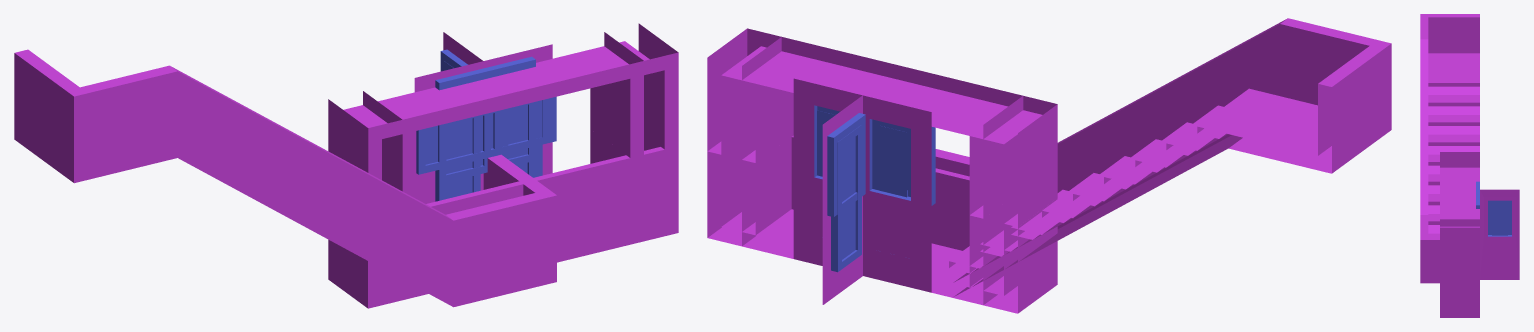
Rendered from Environment_ModularBuildingSet_Master.fbx.
The picture shows the model from 3 angles, left to right: view 1: azimuth 30°, elevation 25°; view 2: azimuth 150°, elevation 25°; view 3: azimuth 270°, elevation 25°; orthographic projection. The views are drawn at different scales.
Parts seen in each view (by area): view 1: Environment_ModularBuildingSet_Stairs_BertaH_M, Environment_ModularBuildingSet_Balcony_sBoolian_BertaH_M, Environment_ModularBuildingSet_Balcony_lBoolian_BertaH_M, Environment_ModularBuildingSet_Balcony_lDecal_BertaH_M, Environment_ModularBuildingSet_Middle_wWide_BertaH_M, Environment_ModularBuildingSet_Middle_wSplit_BertaH_M, Environment_ModularBuildingSet_Corner_wSquare__BertaH_M, Environment_ModularBuildingSet_Middle_wSlide_BertaH_M, Environment_ModularBuildingSet_Middle_wLong_BertaH_M, Environment_ModularBuildingSet_Balcony_sDecal_BertaH_M, Environment_ModularBuildingSet_Corner_wLong_BertaH_M, Environment_ModularBuildingSet_Middle_wSquare_BertaH_M; view 2: Environment_ModularBuildingSet_Stairs_BertaH_M, Environment_ModularBuildingSet_Balcony_lBoolian_BertaH_M, Environment_ModularBuildingSet_Middle_wLong_BertaH_M, Environment_ModularBuildingSet_Balcony_sBoolian_BertaH_M, Environment_ModularBuildingSet_Corner_wLong_BertaH_M, Environment_ModularBuildingSet_Balcony_sDecal_BertaH_M, Environment_ModularBuildingSet_Balcony_lDecal_BertaH_M, Environment_ModularBuildingSet_Middle_wSlide_BertaH_M, Environment_ModularBuildingSet_Corner_wSquare__BertaH_M, Environment_ModularBuildingSet_Middle_wWide_BertaH_M; view 3: Environment_ModularBuildingSet_Stairs_BertaH_M, Environment_ModularBuildingSet_Balcony_lBoolian_BertaH_M, Environment_ModularBuildingSet_Corner_wSquare__BertaH_M, Environment_ModularBuildingSet_Balcony_lDecal_BertaH_M, Environment_ModularBuildingSet_Balcony_sBoolian_BertaH_M, Environment_ModularBuildingSet_Corner_wLong_BertaH_M, Environment_ModularBuildingSet_Middle_wSplit_BertaH_M.
Part boxes in pixels (bbox=[...]): Environment_ModularBuildingSet_Stairs_BertaH_M: bbox=[14, 49, 556, 307]; Environment_ModularBuildingSet_Balcony_sBoolian_BertaH_M: bbox=[363, 32, 643, 299]; Environment_ModularBuildingSet_Balcony_lBoolian_BertaH_M: bbox=[328, 23, 678, 240]; Environment_ModularBuildingSet_Balcony_lDecal_BertaH_M: bbox=[328, 146, 678, 308]; Environment_ModularBuildingSet_Middle_wWide_BertaH_M: bbox=[414, 44, 556, 203]; Environment_ModularBuildingSet_Middle_wSplit_BertaH_M: bbox=[435, 44, 550, 183]; Environment_ModularBuildingSet_Corner_wSquare__BertaH_M: bbox=[440, 32, 549, 154]; Environment_ModularBuildingSet_Middle_wSlide_BertaH_M: bbox=[439, 61, 528, 169]; Environment_ModularBuildingSet_Middle_wLong_BertaH_M: bbox=[435, 105, 535, 201]; Environment_ModularBuildingSet_Balcony_sDecal_BertaH_M: bbox=[426, 129, 629, 246]; Environment_ModularBuildingSet_Corner_wLong_BertaH_M: bbox=[443, 32, 542, 176]; Environment_ModularBuildingSet_Middle_wSquare_BertaH_M: bbox=[438, 105, 528, 164]; Environment_ModularBuildingSet_Stairs_BertaH_M: bbox=[931, 18, 1391, 297]; Environment_ModularBuildingSet_Balcony_lBoolian_BertaH_M: bbox=[707, 28, 1057, 237]; Environment_ModularBuildingSet_Middle_wLong_BertaH_M: bbox=[793, 79, 931, 292]; Environment_ModularBuildingSet_Balcony_sBoolian_BertaH_M: bbox=[742, 37, 1023, 250]; Environment_ModularBuildingSet_Corner_wLong_BertaH_M: bbox=[793, 78, 862, 304]; Environment_ModularBuildingSet_Balcony_sDecal_BertaH_M: bbox=[742, 135, 1003, 304]; Environment_ModularBuildingSet_Balcony_lDecal_BertaH_M: bbox=[707, 141, 1057, 313]; Environment_ModularBuildingSet_Middle_wSlide_BertaH_M: bbox=[814, 108, 910, 258]; Environment_ModularBuildingSet_Corner_wSquare__BertaH_M: bbox=[814, 95, 865, 304]; Environment_ModularBuildingSet_Middle_wWide_BertaH_M: bbox=[801, 80, 935, 205]; Environment_ModularBuildingSet_Stairs_BertaH_M: bbox=[1420, 14, 1479, 283]; Environment_ModularBuildingSet_Balcony_lBoolian_BertaH_M: bbox=[1440, 152, 1479, 274]; Environment_ModularBuildingSet_Corner_wSquare__BertaH_M: bbox=[1480, 190, 1519, 279]; Environment_ModularBuildingSet_Balcony_lDecal_BertaH_M: bbox=[1440, 274, 1479, 317]; Environment_ModularBuildingSet_Balcony_sBoolian_BertaH_M: bbox=[1440, 160, 1479, 226]; Environment_ModularBuildingSet_Corner_wLong_BertaH_M: bbox=[1480, 189, 1519, 236]; Environment_ModularBuildingSet_Middle_wSplit_BertaH_M: bbox=[1476, 181, 1479, 208].
Size of the model in its own units: 905 by 420 by 250.
